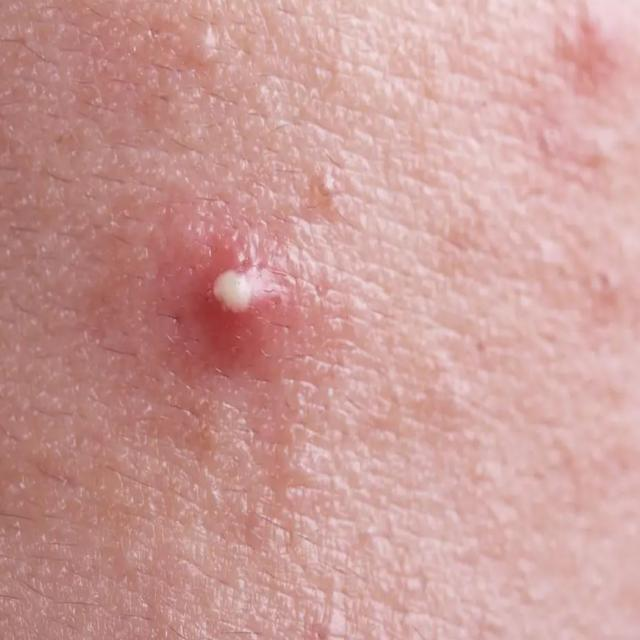blackheads: (194, 231, 311, 355)
